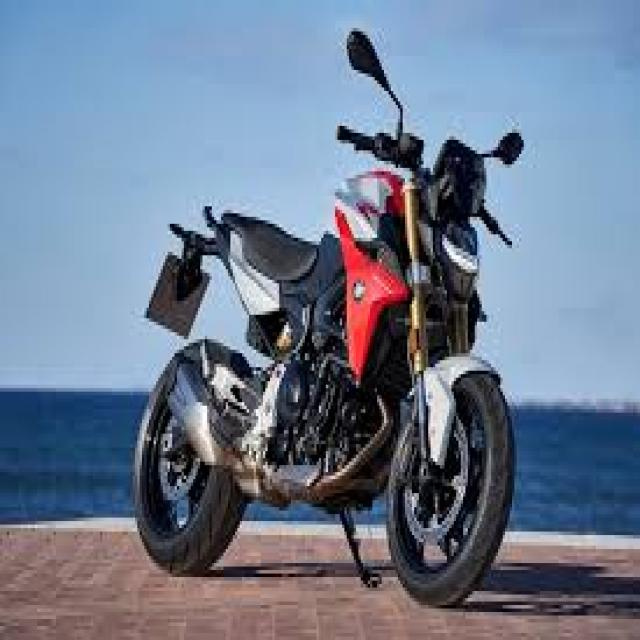Bike: (132, 28, 524, 609)
